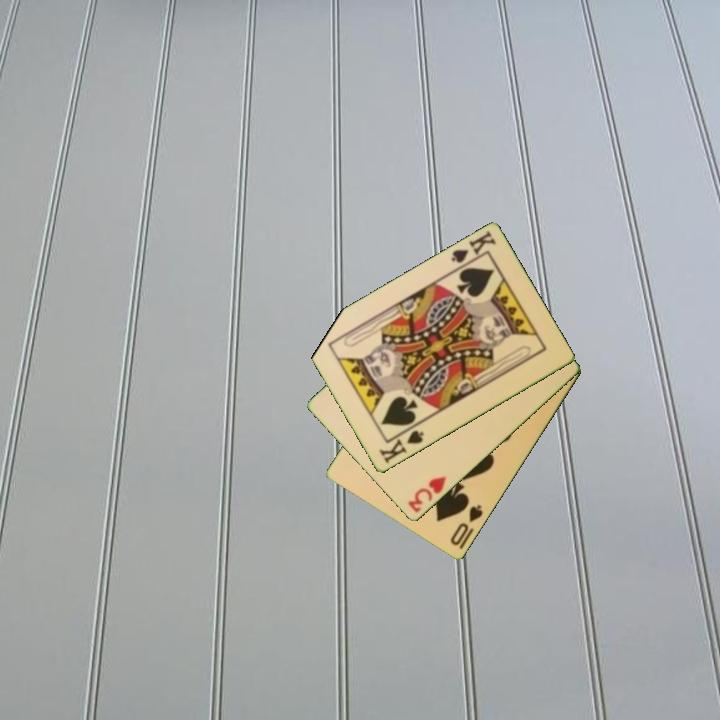10s: (447, 502, 486, 549)
3h: (404, 473, 449, 516)
Ks: (448, 227, 499, 273), (375, 422, 427, 467)
